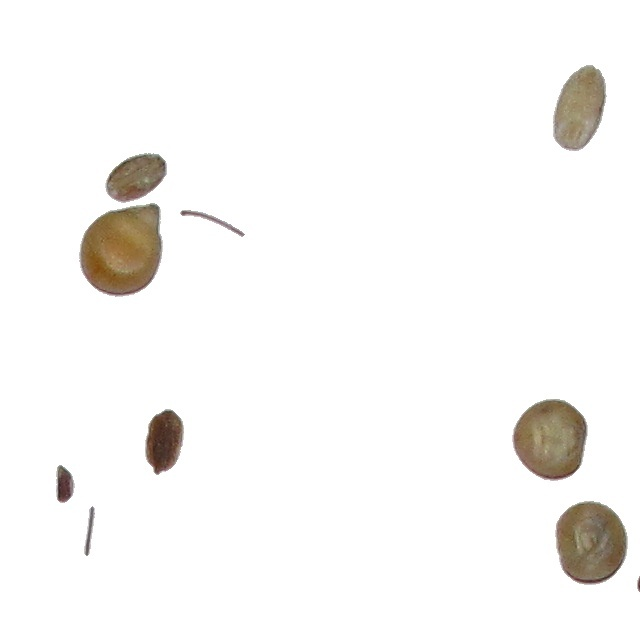buckwheat: (144, 408, 185, 476), (636, 562, 640, 610)
dill: (179, 209, 246, 238)
mais: (78, 202, 164, 298), (511, 398, 589, 482), (554, 500, 629, 586), (552, 64, 608, 152)
other: (104, 152, 168, 204), (83, 505, 96, 557), (56, 464, 76, 493)
